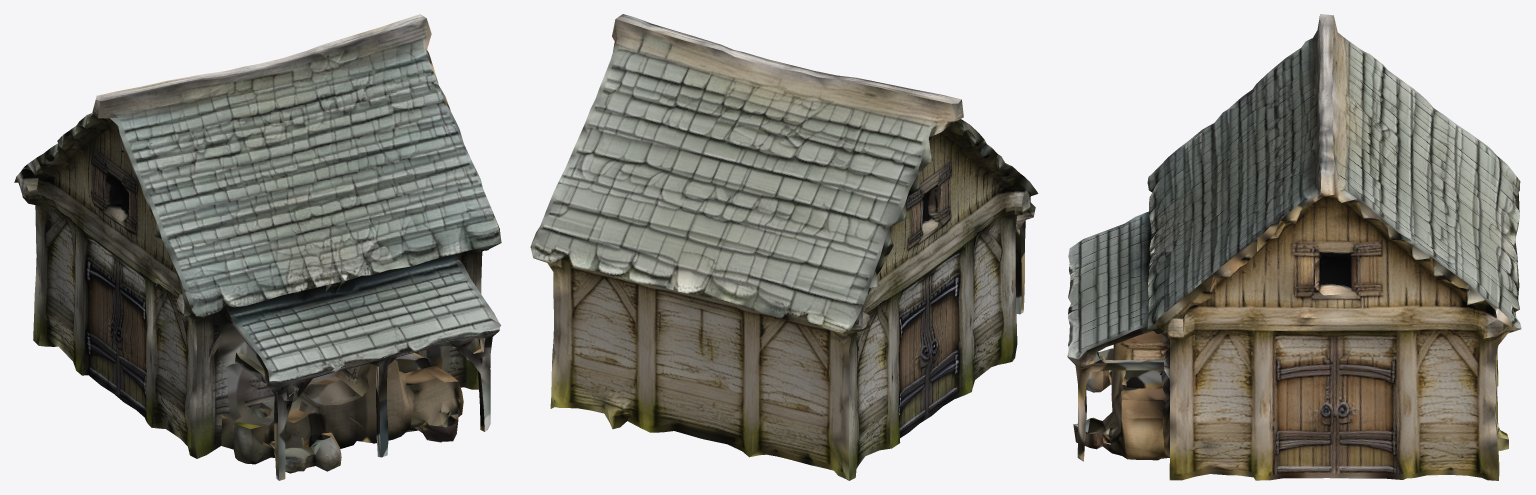
Rendered from storehouse.glb.
3 renders of one model, left to right at view 1: azimuth 30°, elevation 25°; view 2: azimuth 150°, elevation 25°; view 3: azimuth 270°, elevation 25°, orthographic. The views are drawn at different scales.
Parts seen in each view (by area): view 1: Medieval Shack; view 2: Medieval Shack; view 3: Medieval Shack.
Part boxes in pixels (x1=…): Medieval Shack: x1=14, y1=14, x2=501, y2=480; Medieval Shack: x1=530, y1=14, x2=1038, y2=480; Medieval Shack: x1=1067, y1=14, x2=1521, y2=480.
Bounding box in the file's own units: 6.56 × 6 × 7.61.
1 material, 1 textured.
